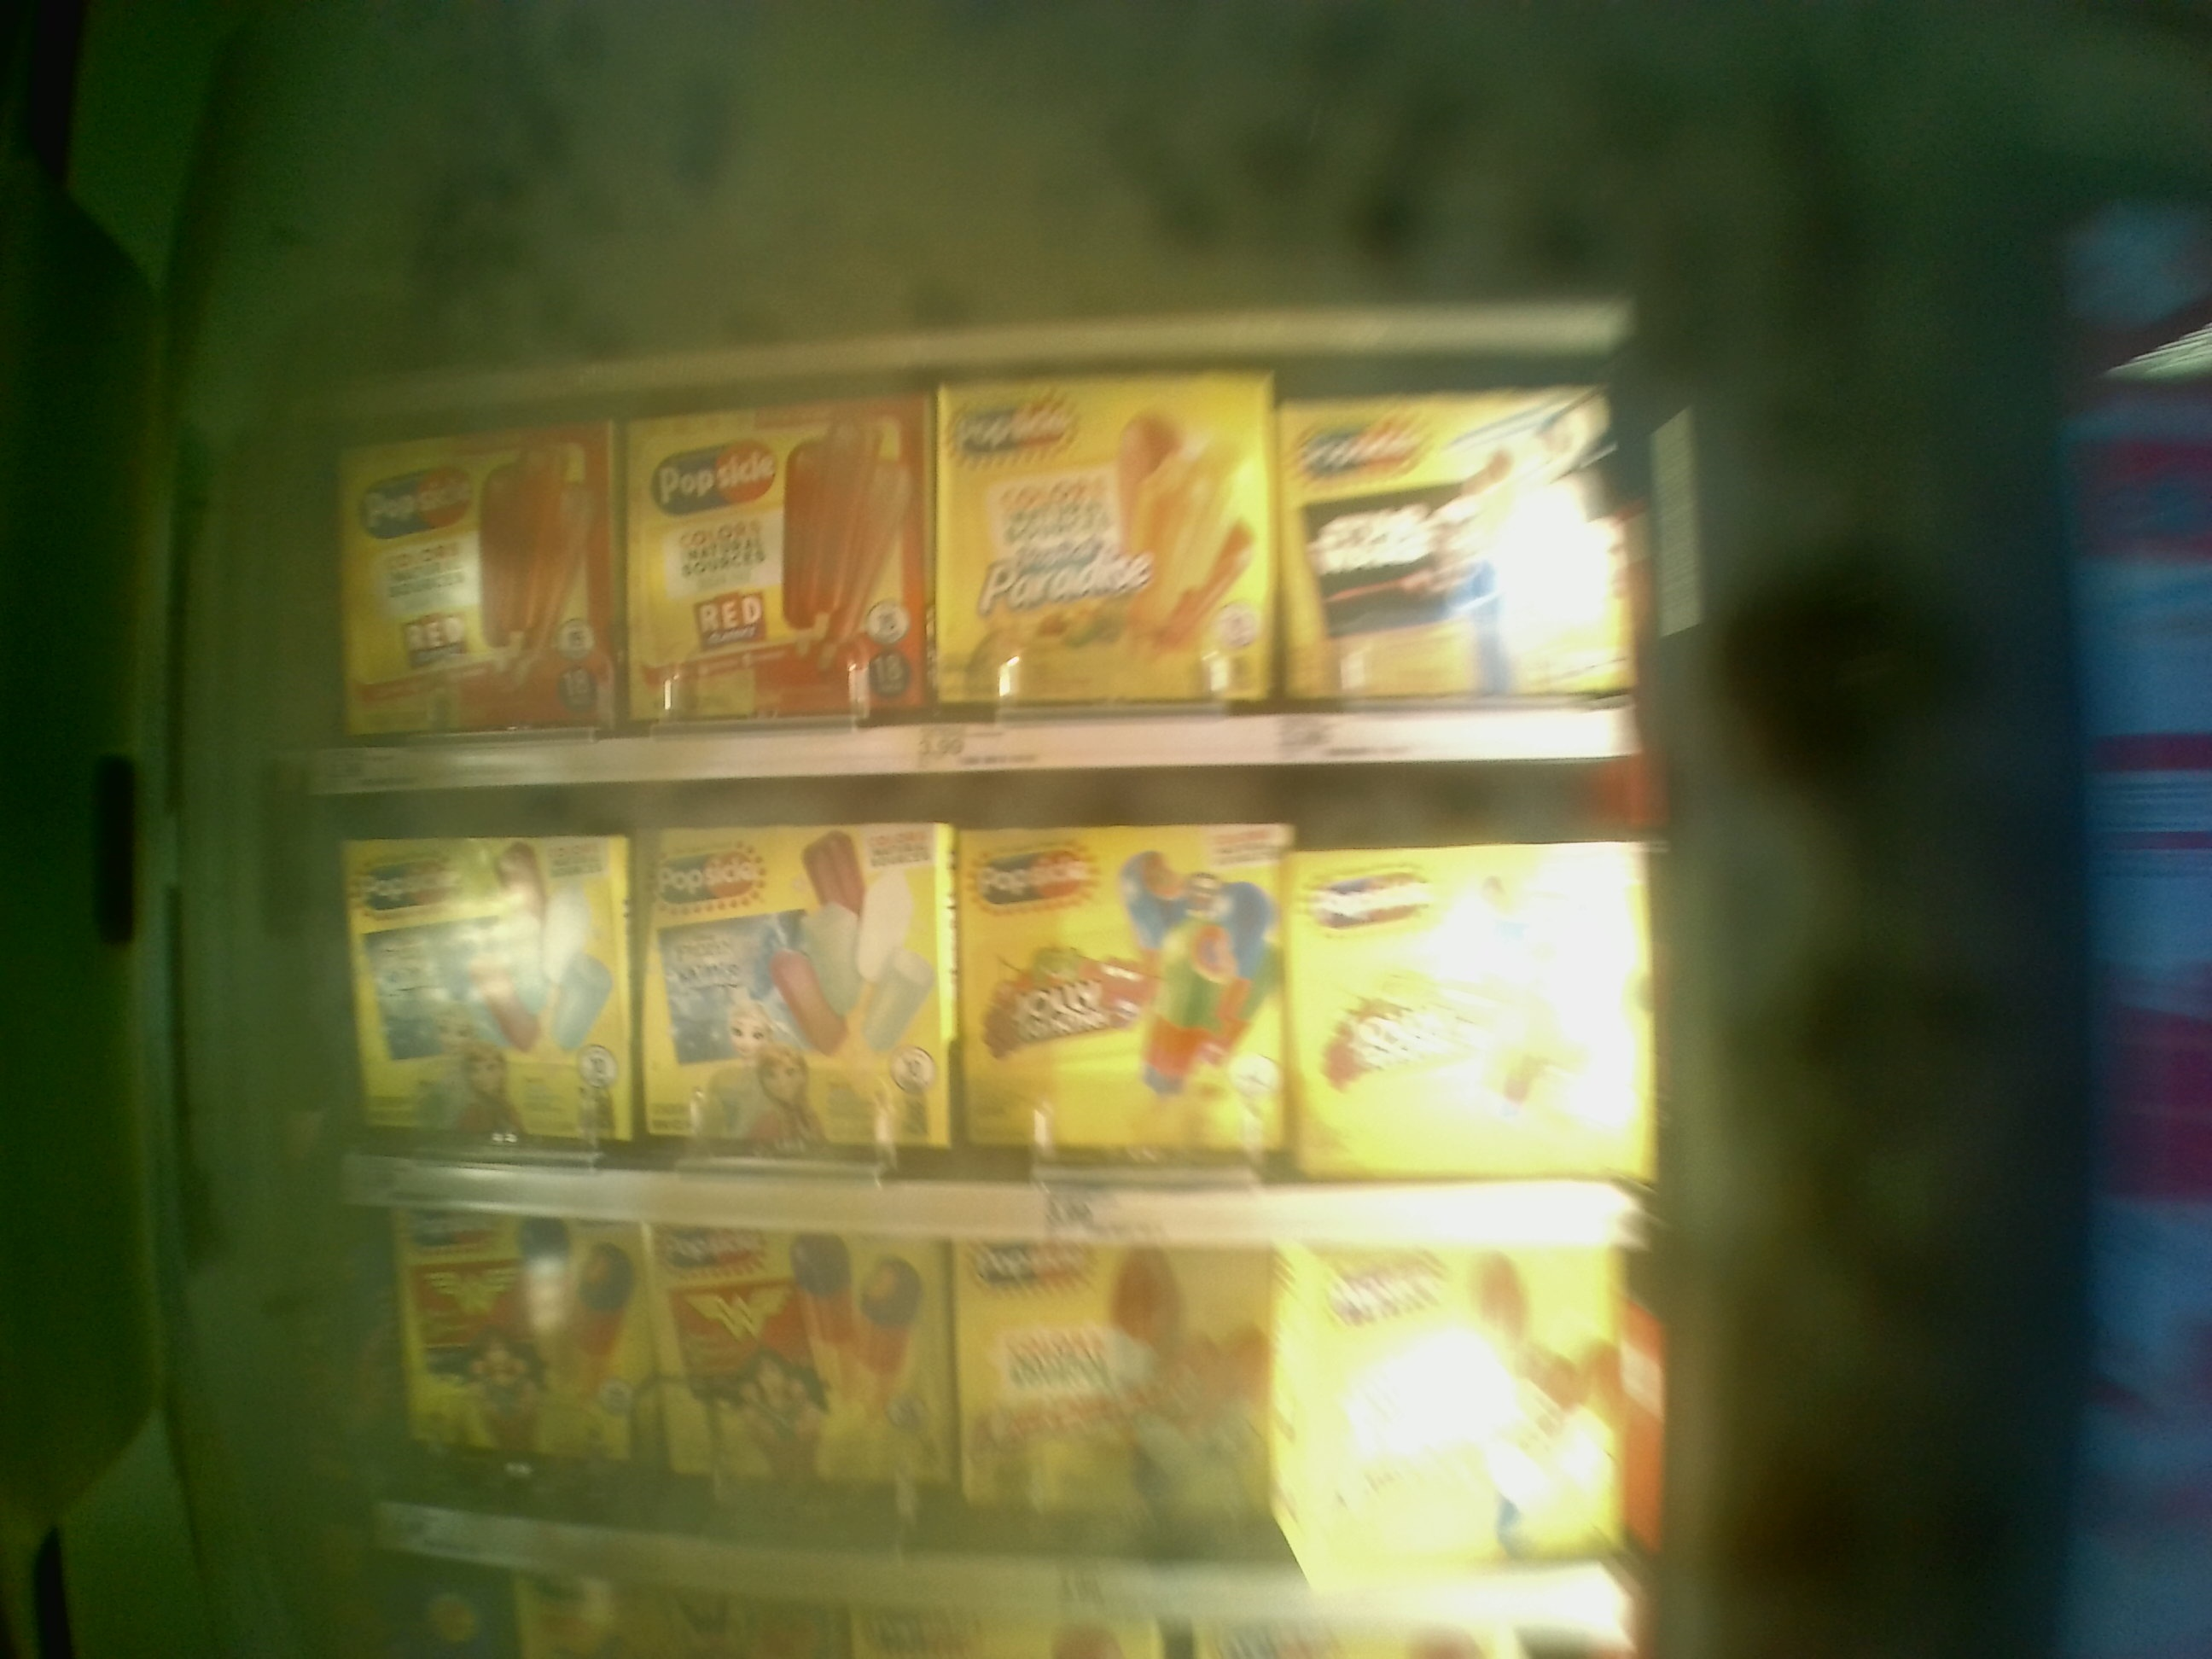frozen-food-shelf: (310, 772, 1658, 1244)
